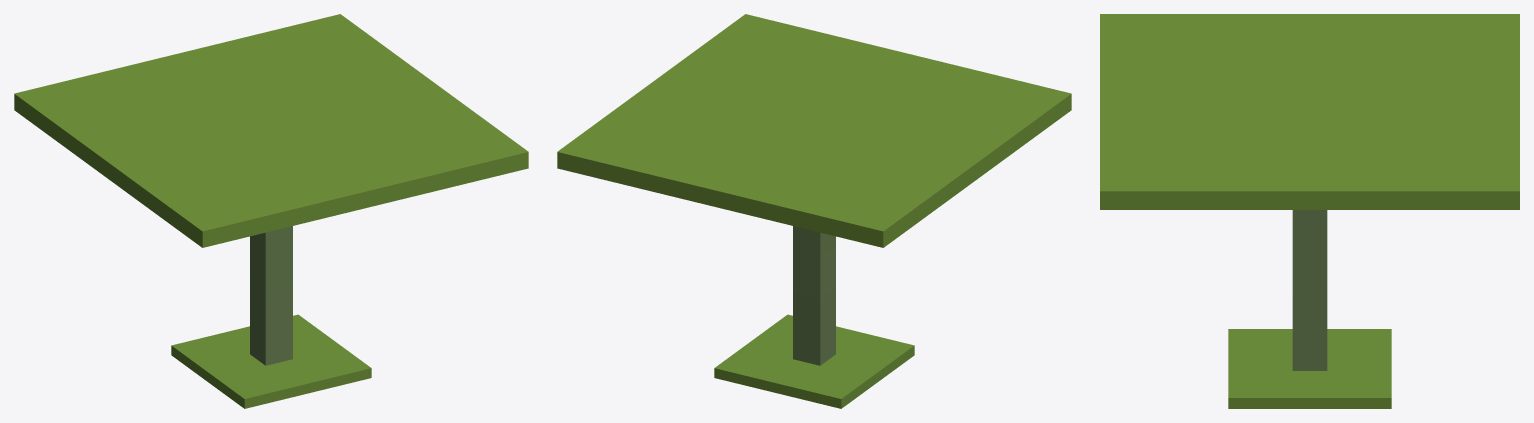
The model's file is Table_06.fbx.
3 renders of one model, left to right at view 1: azimuth 30°, elevation 25°; view 2: azimuth 150°, elevation 25°; view 3: azimuth 270°, elevation 25°, orthographic. The views are drawn at different scales.
Parts seen in each view (by area): view 1: Table_06; view 2: Table_06; view 3: Table_06.
Part boxes in pixels (x1,y1,x2,y2): Table_06: (14,14,528,408); Table_06: (557,14,1071,408); Table_06: (1100,14,1519,408).
Size of the model in its own units: 1.16 by 0.8257 by 1.16.
